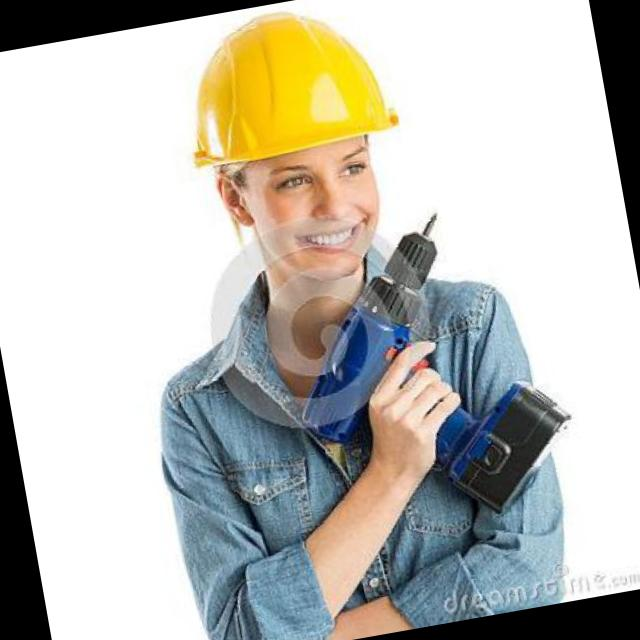helmet: (142, 0, 459, 336)
